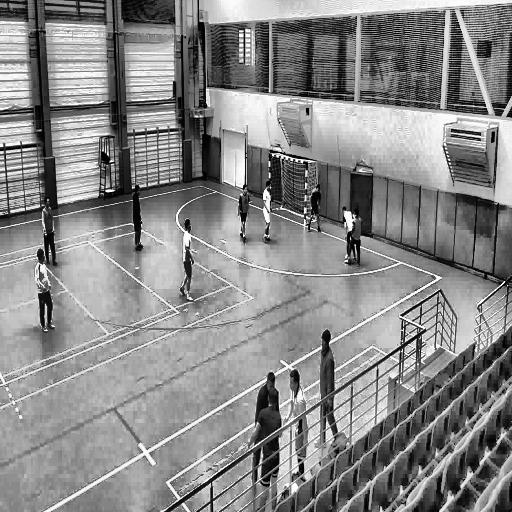ball: (344, 252, 350, 262)
player: (250, 365, 280, 496), (250, 391, 282, 511), (314, 325, 339, 449), (284, 366, 307, 475), (35, 247, 58, 334), (40, 193, 60, 270), (180, 218, 196, 306), (131, 184, 145, 257), (341, 205, 356, 262), (349, 207, 362, 268), (308, 182, 322, 233), (238, 184, 249, 245), (263, 179, 272, 247)
